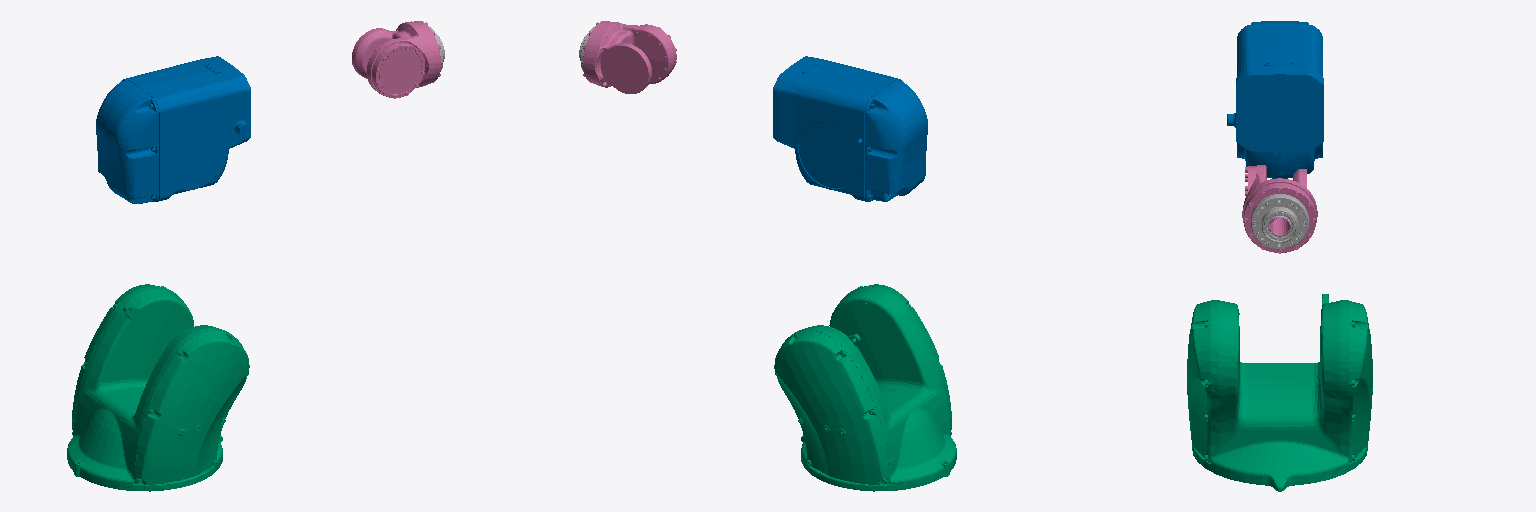
The robot description file, URDF, robot "mz07":
<?xml version="1.0" ?>
<!-- =================================================================================== -->
<!-- |    This document was autogenerated by xacro from mz07.urdf.xacro                | -->
<!-- |    EDITING THIS FILE BY HAND IS NOT RECOMMENDED                                 | -->
<!-- =================================================================================== -->
<robot name="mz07" xmlns:xacro="http://ros.org/wiki/xacro">
  <!-- Include -->
  <material name="black">
    <color rgba="0.0 0.0 0.0 1.0"/>
  </material>
  <material name="blue">
    <color rgba="0.0 0.0 0.8 1.0"/>
  </material>
  <material name="green">
    <color rgba="0.0 0.8 0.0 1.0"/>
  </material>
  <material name="grey">
    <color rgba="0.2 0.2 0.2 1.0"/>
  </material>
  <material name="orange">
    <color rgba="1.0 0.423529411765 0.0392156862745 1.0"/>
  </material>
  <material name="brown">
    <color rgba="0.870588235294 0.811764705882 0.764705882353 1.0"/>
  </material>
  <material name="red">
    <color rgba="0.8 0.0 0.0 1.0"/>
  </material>
  <material name="white">
    <color rgba="1.0 1.0 1.0 1.0"/>
  </material>
  <!-- Radius Limits -->
  <!-- Velocity Limits -->
  <!-- Link -->
  <link name="world"/>
  <link name="base_link">
    <visual>
      <geometry>
        <mesh filename="package://nachi_description/meshes/mz07/visual/base_link.dae"/>
      </geometry>
    </visual>
    <collision>
      <geometry>
        <mesh filename="package://nachi_description/meshes/mz07/collision/base_link.stl"/>
      </geometry>
    </collision>
    <inertial>
      <mass value="9.522365"/>
      <inertia ixx="0.144495" ixy="-9e-06" ixz="-0.03076" iyy="0.183352" iyz="-3.7e-05" izz="0.079873"/>
    </inertial>
  </link>
  <link name="link_1">
    <visual>
      <geometry>
        <mesh filename="package://nachi_description/meshes/mz07/visual/link_1.dae"/>
      </geometry>
    </visual>
    <collision>
      <geometry>
        <mesh filename="package://nachi_description/meshes/mz07/collision/link_1.stl"/>
      </geometry>
    </collision>
    <inertial>
      <mass value="5.61696"/>
      <inertia ixx="0.087433" ixy="0.0" ixz="0.013287" iyy="0.073064" iyz="1.9e-05" izz="0.039829"/>
    </inertial>
  </link>
  <link name="link_2">
    <visual>
      <geometry>
        <mesh filename="package://nachi_description/meshes/mz07/visual/link_2.dae"/>
      </geometry>
    </visual>
    <collision>
      <geometry>
        <mesh filename="package://nachi_description/meshes/mz07/collision/link_2.stl"/>
      </geometry>
    </collision>
    <inertial>
      <mass value="7.350069"/>
      <inertia ixx="0.299465" ixy="-1e-05" ixz="-0.012735" iyy="0.279554" iyz="5.3e-05" izz="0.035911"/>
    </inertial>
  </link>
  <link name="link_3">
    <visual>
      <geometry>
        <mesh filename="package://nachi_description/meshes/mz07/visual/link_3.dae"/>
      </geometry>
    </visual>
    <collision>
      <geometry>
        <mesh filename="package://nachi_description/meshes/mz07/collision/link_3.stl"/>
      </geometry>
    </collision>
    <inertial>
      <mass value="3.724767"/>
      <inertia ixx="0.011733" ixy="4.3e-05" ixz="0.000461" iyy="0.019531" iyz="2.4e-05" izz="0.014154"/>
    </inertial>
  </link>
  <link name="link_4">
    <visual>
      <geometry>
        <mesh filename="package://nachi_description/meshes/mz07/visual/link_4.dae"/>
      </geometry>
    </visual>
    <collision>
      <geometry>
        <mesh filename="package://nachi_description/meshes/mz07/collision/link_4.stl"/>
      </geometry>
    </collision>
    <inertial>
      <mass value="3.245188"/>
      <inertia ixx="0.007141" ixy="0.000562" ixz="0.000255" iyy="0.054197" iyz="2.4e-05" izz="0.056111"/>
    </inertial>
  </link>
  <link name="link_5">
    <visual>
      <geometry>
        <mesh filename="package://nachi_description/meshes/mz07/visual/link_5.dae"/>
      </geometry>
    </visual>
    <collision>
      <geometry>
        <mesh filename="package://nachi_description/meshes/mz07/collision/link_5.stl"/>
      </geometry>
    </collision>
    <inertial>
      <mass value="0.501938"/>
      <inertia ixx="0.000539" ixy="1e-06" ixz="0.0" iyy="0.000892" iyz="-1e-06" izz="0.000962"/>
    </inertial>
  </link>
  <link name="link_6">
    <visual>
      <geometry>
        <mesh filename="package://nachi_description/meshes/mz07/visual/link_6.dae"/>
      </geometry>
    </visual>
    <collision>
      <geometry>
        <mesh filename="package://nachi_description/meshes/mz07/collision/link_6.stl"/>
      </geometry>
    </collision>
    <inertial>
      <mass value="0.038575"/>
      <inertia ixx="0.0005" ixy="0.0" ixz="0.0" iyy="0.0005" iyz="0.0" izz="0.0005"/>
    </inertial>
  </link>
  <!--
  <xacro:link_v1 name="link_6" mass="0.038575"
				 ixx="0.000027" ixy="0.000000" ixz="0.000000"
				 iyy="0.000016" iyz="0.000000"
				 izz="0.000017"/> -->
  
  <link name="end_effector">
    <visual>
        <geometry>
          <mesh filename="package://nachi_description/meshes/mz07/visual/end_effector.dae"/>
        </geometry>
      </visual>
      <collision>
        <geometry>
          <mesh filename="package://nachi_description/meshes/mz07/collision/end_effector.stl"/>
        </geometry>
      </collision>
      <inertial>
        <mass value="1.131"/>
        <inertia ixx="0.001409824" ixy="-0.00001251546" ixz="0.00095534357" iyy="0.0137" iyz="-0.00000361605" izz="0.0020676187" />
      </inertial>
    </link>
  <link name="tool0"/>
  

  <joint name="world" type="fixed">
    <parent link="world"/>
    <child link="base_link"/>
  </joint>
  <joint name="J1" type="revolute">
    <origin rpy="0 0 0" xyz="0 0 0.197"/>
    <parent link="base_link"/>
    <child link="link_1"/>
    <axis xyz="0 0 1"/>
    <dynamics damping="0.7" friction="0.7"/>
    <limit effort="30.0" lower="-2.96705981" upper="2.96705981" velocity="7.85398185"/>
  </joint>
  <joint name="J2" type="revolute">
    <origin rpy="0 0 0" xyz="0.05 0 0.148"/>
    <parent link="link_1"/>
    <child link="link_2"/>
    <axis xyz="0 1 0"/>
    <dynamics damping="0.7" friction="0.7"/>
    <limit effort="30.0" lower="-1.39626344" upper="2.356194555" velocity="6.63225134"/>
  </joint>
  <joint name="J3" type="revolute">
    <origin rpy="0 0 0" xyz="0 0 0.33"/>
    <parent link="link_2"/>
    <child link="link_3"/>
    <axis xyz="0 1 0"/>
    <dynamics damping="0.7" friction="0.7"/>
    <limit effort="30.0" lower="-3.14159274" upper="0.802851478" velocity="9.07571236"/>
  </joint>
  <joint name="J4" type="revolute">
    <origin rpy="0 0 0" xyz="0.09 0 0.045"/>
    <parent link="link_3"/>
    <child link="link_4"/>
    <axis xyz="1 0 0"/>
    <dynamics damping="0.7" friction="0.7"/>
    <limit effort="30.0" lower="-3.31612567" upper="3.31612567" velocity="9.59931115"/>
  </joint>
  <joint name="J5" type="revolute">
    <origin rpy="0 0 0" xyz="0.25 0 0"/>
    <parent link="link_4"/>
    <child link="link_5"/>
    <axis xyz="0 1 0"/>
    <dynamics damping="0.7" friction="0.7"/>
    <limit effort="30.0" lower="-2.09439516" upper="2.09439516" velocity="9.59931115"/>
  </joint>
  <joint name="J6" type="revolute">
    <origin rpy="0 0 0" xyz="0.063 0 0"/>
    <parent link="link_5"/>
    <child link="link_6"/>
    <axis xyz="1 0 0"/>
    <dynamics damping="0.7" friction="0.7"/>
    <limit effort="30.0" lower="-6.28318548" upper="6.28318548" velocity="17.453293"/>
  </joint>
  <joint name="joint_ee" type="fixed">
    <origin rpy="3.141592654 -1.570796327 0" xyz="0.01 0 0"/>
    <parent link="link_6"/>
    <child link="end_effector"/>
  </joint>
  <joint name="tool0_ee" type="fixed">
    <origin rpy="3.141592654 -1.570796327 0" xyz="0.21 0 0"/>
    <parent link="link_6"/>
    <child link="tool0"/>
  </joint>
  <!-- transmission -->
  <transmission name="transmission_1">
    <type>transmission_interface/SimpleTransmission</type>
    <joint name="J1">
      <hardwareInterface>hardware_interface/PositionJointInterface</hardwareInterface>
    </joint>
    <actuator name="motor_1">
      <hardwareInterface>hardware_interface/PositionJointInterface</hardwareInterface>
      <mechanicalReduction>1</mechanicalReduction>
    </actuator>
  </transmission>
  <transmission name="transmission_2">
    <type>transmission_interface/SimpleTransmission</type>
    <joint name="J2">
      <hardwareInterface>hardware_interface/PositionJointInterface</hardwareInterface>
    </joint>
    <actuator name="motor_2">
      <hardwareInterface>hardware_interface/PositionJointInterface</hardwareInterface>
      <mechanicalReduction>1</mechanicalReduction>
    </actuator>
  </transmission>
  <transmission name="transmission_3">
    <type>transmission_interface/SimpleTransmission</type>
    <joint name="J3">
      <hardwareInterface>hardware_interface/PositionJointInterface</hardwareInterface>
    </joint>
    <actuator name="motor_3">
      <hardwareInterface>hardware_interface/PositionJointInterface</hardwareInterface>
      <mechanicalReduction>1</mechanicalReduction>
    </actuator>
  </transmission>
  <transmission name="transmission_4">
    <type>transmission_interface/SimpleTransmission</type>
    <joint name="J4">
      <hardwareInterface>hardware_interface/PositionJointInterface</hardwareInterface>
    </joint>
    <actuator name="motor_4">
      <hardwareInterface>hardware_interface/PositionJointInterface</hardwareInterface>
      <mechanicalReduction>1</mechanicalReduction>
    </actuator>
  </transmission>
  <transmission name="transmission_5">
    <type>transmission_interface/SimpleTransmission</type>
    <joint name="J5">
      <hardwareInterface>hardware_interface/PositionJointInterface</hardwareInterface>
    </joint>
    <actuator name="motor_5">
      <hardwareInterface>hardware_interface/PositionJointInterface</hardwareInterface>
      <mechanicalReduction>1</mechanicalReduction>
    </actuator>
  </transmission>
  <transmission name="transmission_6">
    <type>transmission_interface/SimpleTransmission</type>
    <joint name="J6">
      <hardwareInterface>hardware_interface/PositionJointInterface</hardwareInterface>
    </joint>
    <actuator name="motor_6">
      <hardwareInterface>hardware_interface/PositionJointInterface</hardwareInterface>
      <mechanicalReduction>1</mechanicalReduction>
    </actuator>
  </transmission>
  <!-- gazebo -->
  <gazebo>
    <plugin filename="libgazebo_ros_control.so" name="gazebo_ros_control">
      <robotNamespace>/mz07</robotNamespace>
      <robotSimType>gazebo_ros_control/DefaultRobotHWSim</robotSimType>
    </plugin>
  </gazebo>
  <gazebo reference="base_link">
    <mu1>0.2</mu1>
    <mu2>0.2</mu2>
    <selfCollide>true</selfCollide>
    <turnGravityOff>true</turnGravityOff>
    <canonical>0</canonical>
		<kinematic>1</kinematic>
  </gazebo>
  <gazebo reference="link_1">
    <mu1>0.2</mu1>
    <mu2>0.2</mu2>
    <selfCollide>true</selfCollide>
    <turnGravityOff>true</turnGravityOff>
    <canonical>0</canonical>
		<kinematic>1</kinematic>
  </gazebo>
  <gazebo reference="link_2">
    <mu1>0.2</mu1>
    <mu2>0.2</mu2>
    <selfCollide>true</selfCollide>
    <turnGravityOff>true</turnGravityOff>
    <canonical>0</canonical>
		<kinematic>1</kinematic>
  </gazebo>
  <gazebo reference="link_3">
    <mu1>0.2</mu1>
    <mu2>0.2</mu2>
    <selfCollide>true</selfCollide>
    <turnGravityOff>true</turnGravityOff>
    <canonical>0</canonical>
		<kinematic>1</kinematic>
  </gazebo>
  <gazebo reference="link_4">
    <mu1>0.2</mu1>
    <mu2>0.2</mu2>
    <selfCollide>true</selfCollide>
    <turnGravityOff>true</turnGravityOff>
    <canonical>0</canonical>
		<kinematic>1</kinematic>
  </gazebo>
  <gazebo reference="link_5">
    <mu1>0.2</mu1>
    <mu2>0.2</mu2>
    <selfCollide>true</selfCollide>
    <turnGravityOff>true</turnGravityOff>
    <canonical>0</canonical>
		<kinematic>1</kinematic>
  </gazebo>
  <gazebo reference="link_6">
    <mu1>0.2</mu1>
    <mu2>0.2</mu2>
    <selfCollide>true</selfCollide>
    <turnGravityOff>true</turnGravityOff>
    <canonical>0</canonical>
		<kinematic>1</kinematic>
  </gazebo>
  <gazebo reference="end_effector">
    <mu1>0.2</mu1>
    <mu2>0.2</mu2>
    <selfCollide>true</selfCollide>
    <turnGravityOff>true</turnGravityOff>
    <canonical>0</canonical>
		<kinematic>1</kinematic>
  </gazebo>
</robot>

--- Facts derived from the render (not from the file) ---
3 views of the same robot in one strip: view 1: azimuth 30°, elevation 25°; view 2: azimuth 150°, elevation 25°; view 3: azimuth 270°, elevation 25° (orthographic).
Robot: mz07 — 10 links, 9 joints (6 revolute, 3 fixed); root link world; default pose: all joints at 0.
Links seen in each view (by area): view 1: link_1, link_3, link_5; view 2: link_1, link_3, link_5; view 3: link_1, link_3, link_5, link_6.
Boxes of the visible links, x1=… form: link_1: x1=67, y1=284, x2=249, y2=491; link_3: x1=96, y1=56, x2=250, y2=203; link_5: x1=352, y1=21, x2=442, y2=98; link_1: x1=774, y1=284, x2=956, y2=491; link_3: x1=773, y1=56, x2=927, y2=201; link_5: x1=581, y1=21, x2=676, y2=93; link_1: x1=1187, y1=294, x2=1372, y2=491; link_3: x1=1227, y1=21, x2=1323, y2=178; link_5: x1=1242, y1=165, x2=1317, y2=253; link_6: x1=1251, y1=194, x2=1308, y2=249.
Bounding box of the posed robot: 0.586 × 0.23 × 0.577 m (x, y, z).
4 mesh visuals loaded from 8 distinct referenced files (4 Collada DAE); not drawn: 4 (reference not matched to a file when rendering).
